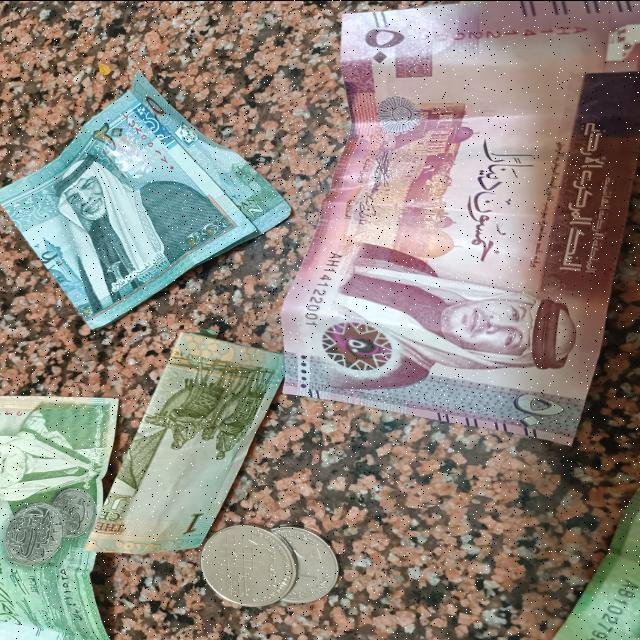1-dinar: (82, 328, 284, 556), (0, 393, 119, 640), (545, 483, 640, 638)
10-coins: (200, 525, 296, 603)
20-dinar: (1, 68, 294, 326)
5-coins: (282, 524, 338, 602)
50-dinar: (275, 0, 639, 449)
